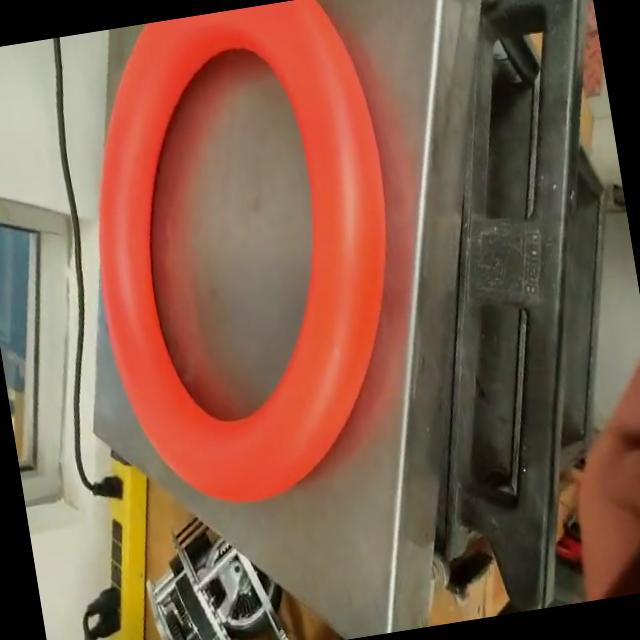note: (56, 0, 433, 523)
